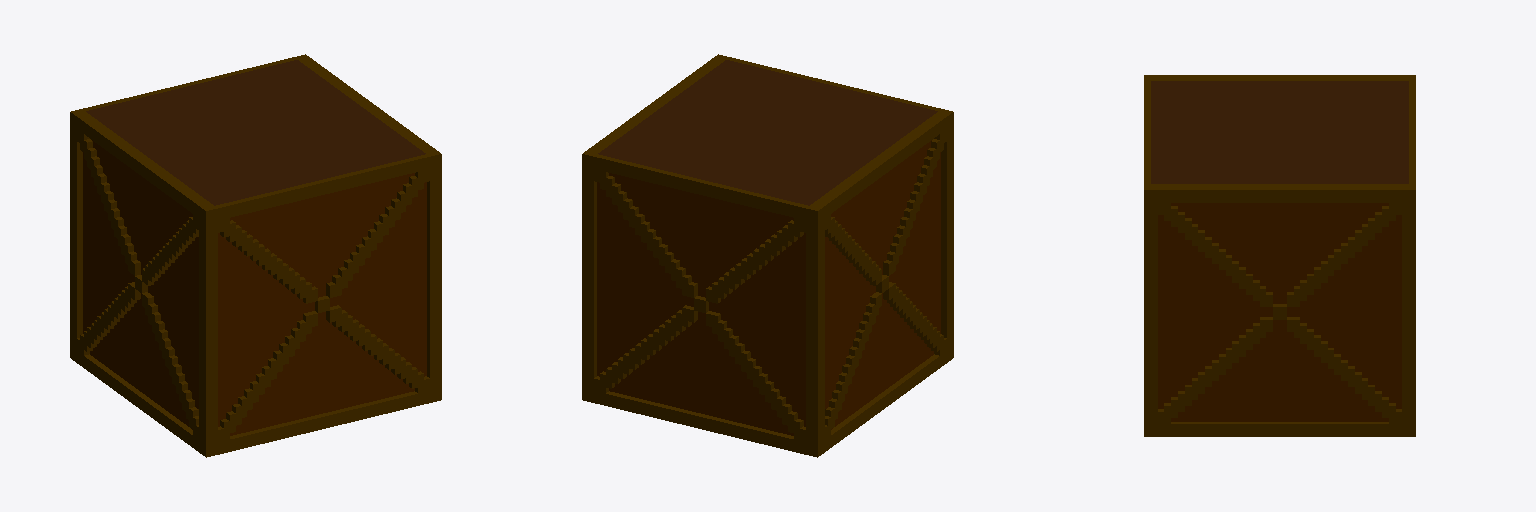
The picture shows the model from 3 angles: view 1: azimuth 30°, elevation 25°; view 2: azimuth 150°, elevation 25°; view 3: azimuth 270°, elevation 25°; orthographic projection.
Parts seen in each view (by area): view 1: object 1; view 2: object 1; view 3: object 1.
Boxes of the visible parts, box(x1,y1,x2,y2) form: object 1: box(70, 54, 441, 457); object 1: box(582, 54, 953, 457); object 1: box(1144, 75, 1415, 436).
Bounding box in the file's own units: 4 × 4 × 4.
1 materials, 1 textured.